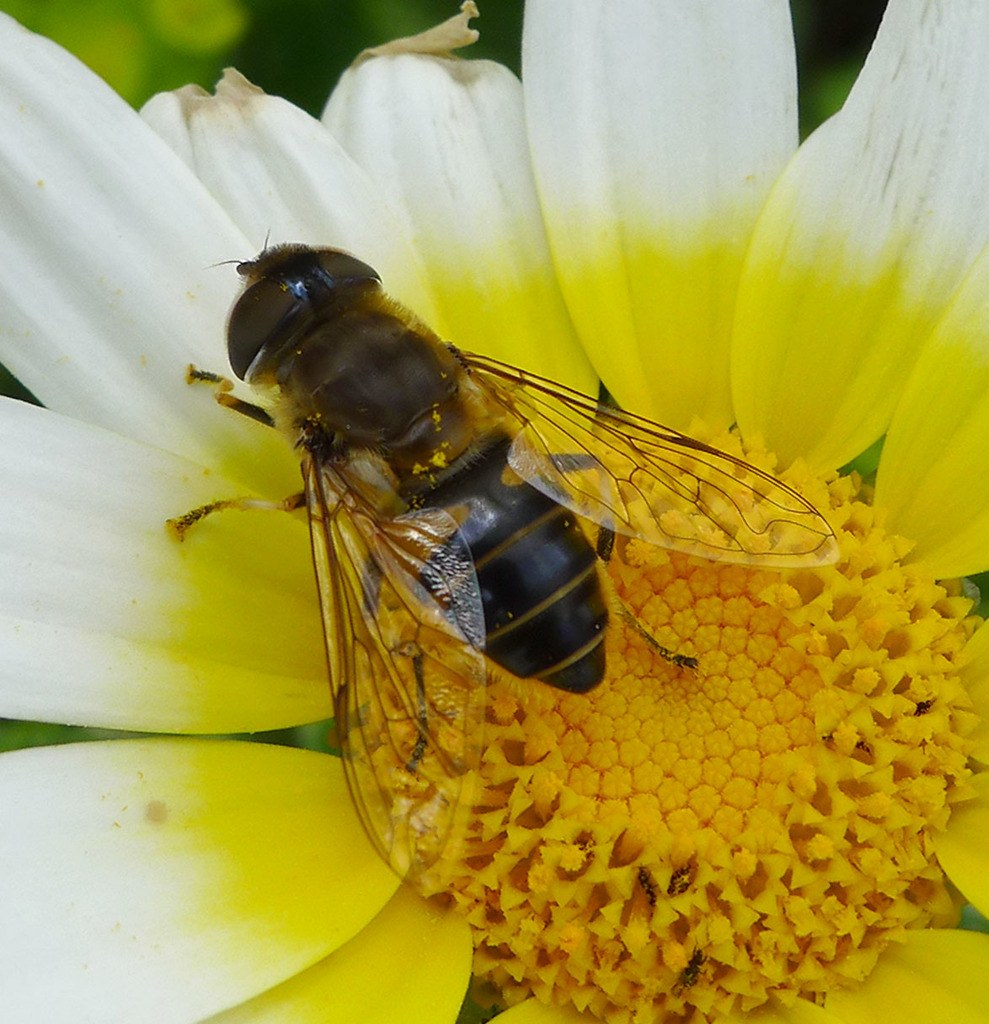bee: (163, 229, 833, 885)
insect: (0, 0, 988, 1023)
